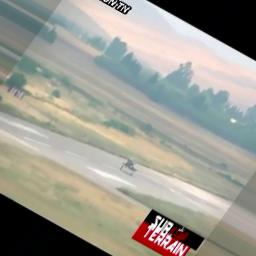Airplane: (118, 156, 139, 176)
